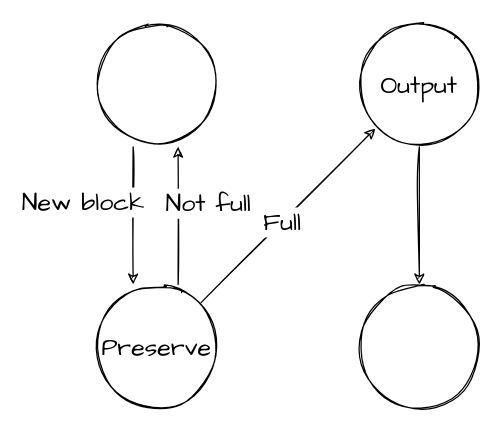
This 504x431 diagram has some shape labels left out. The box of each missing label's shape, as (x1, y1, x2, y2) in pixels:
Consume: (93, 21, 219, 147)
Generated: (356, 283, 482, 409)
